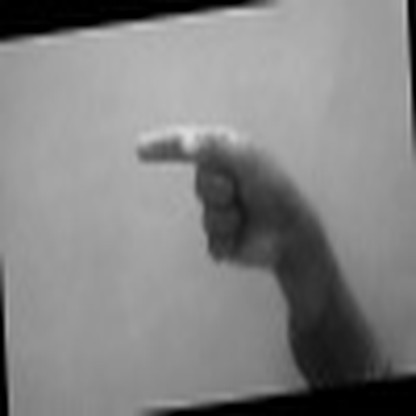g: (132, 109, 311, 268)
